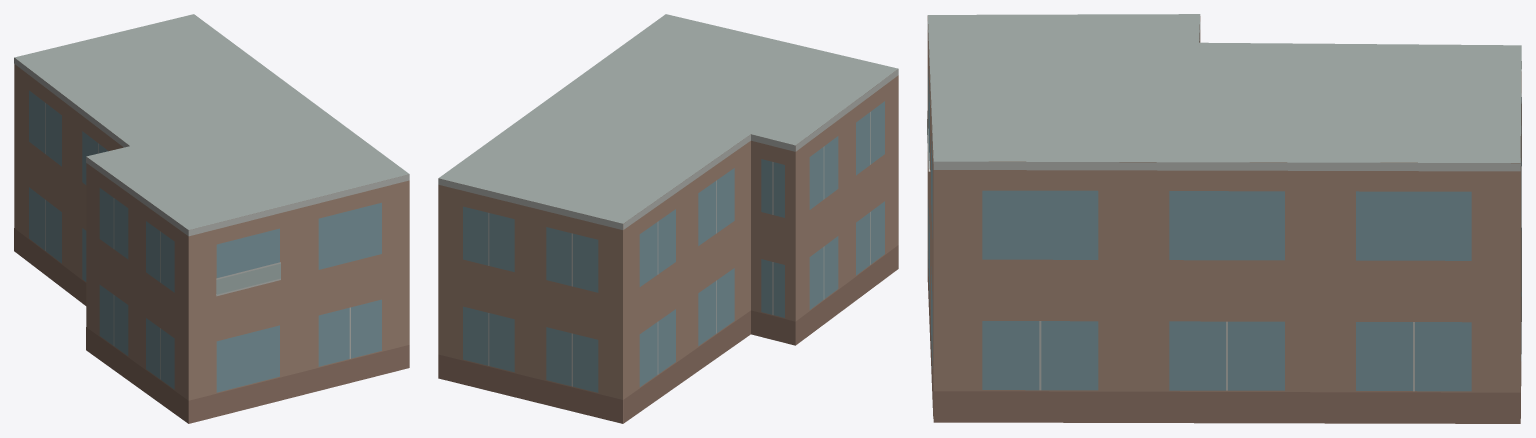
The model's file is survey-upis-32552175.glb.
3 renders of one model, left to right at view 1: azimuth 30°, elevation 25°; view 2: azimuth 150°, elevation 25°; view 3: azimuth 270°, elevation 25°, orthographic. The views are drawn at different scales.
Parts seen in each view (by area): view 1: survey-upis-32552175.tmp; view 2: survey-upis-32552175.tmp; view 3: survey-upis-32552175.tmp.
Part boxes in pixels (x1,y1,x2,y2): survey-upis-32552175.tmp: [14, 14, 409, 423]; survey-upis-32552175.tmp: [438, 14, 898, 423]; survey-upis-32552175.tmp: [927, 14, 1521, 423].
Size of the model in its own units: 9.32 by 7.6 by 15.71.
